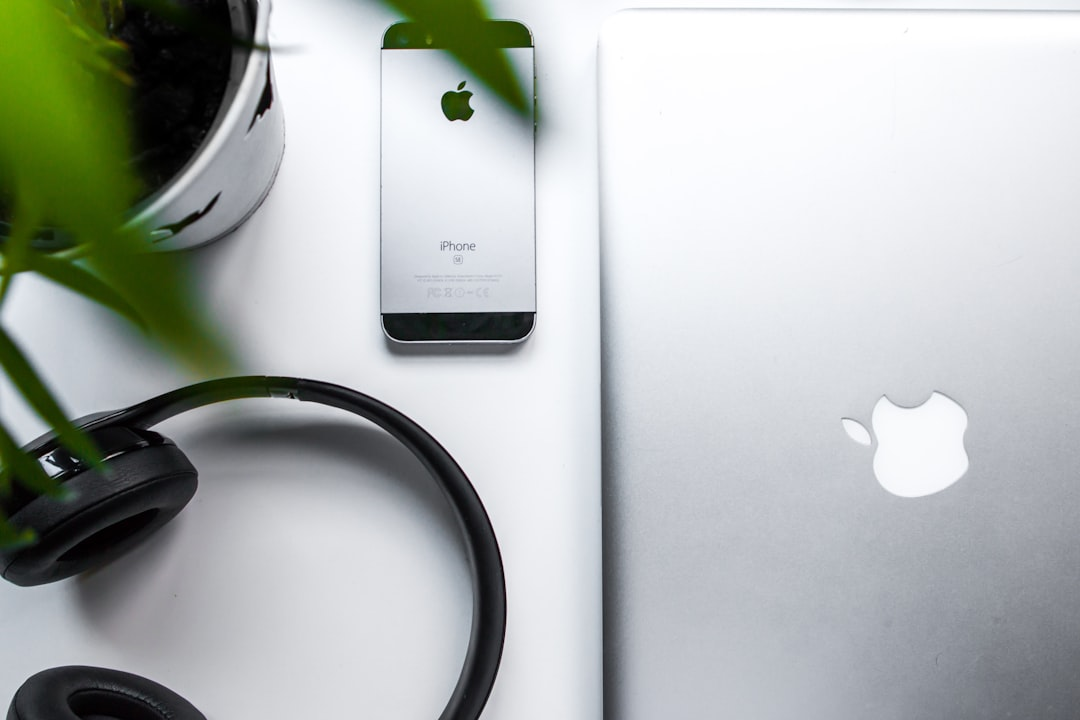phone: (374, 15, 540, 350)
